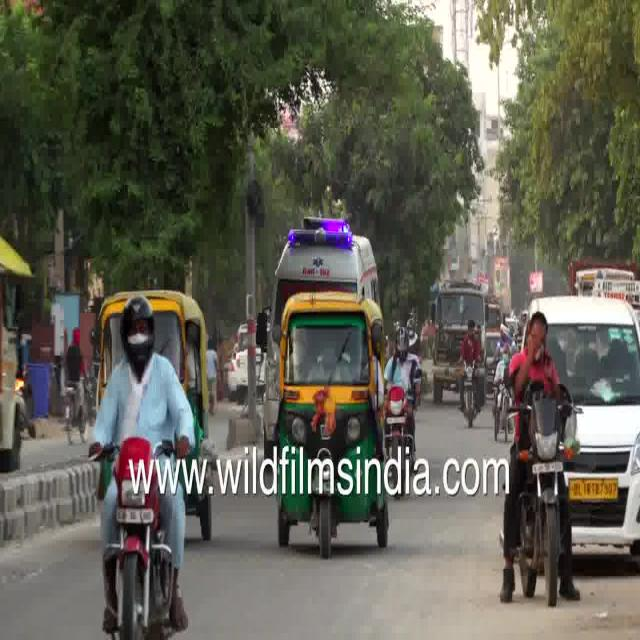ambulance: (258, 201, 382, 302)
